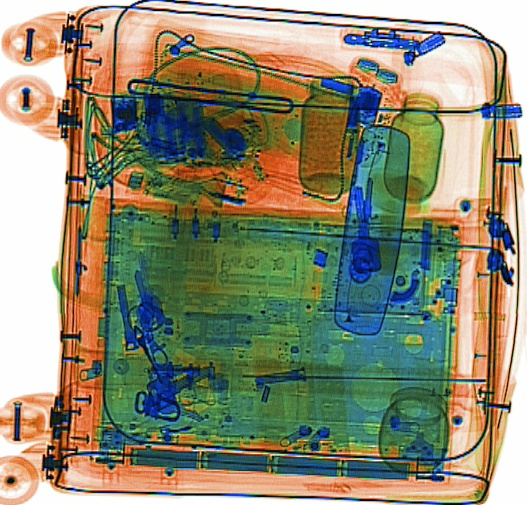powerbank: (131, 84, 216, 172)
